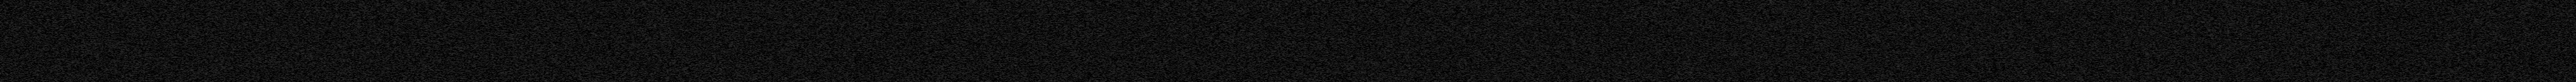wv_am: (186, 0, 191, 82)
wv_lsb: (2403, 2, 2407, 82), (1094, 2, 1097, 82)
wv_wbfm: (790, 0, 826, 82), (1240, 0, 1272, 82), (1175, 0, 1194, 82), (1010, 41, 1038, 82), (1010, 0, 1038, 41), (1173, 0, 1175, 82)
